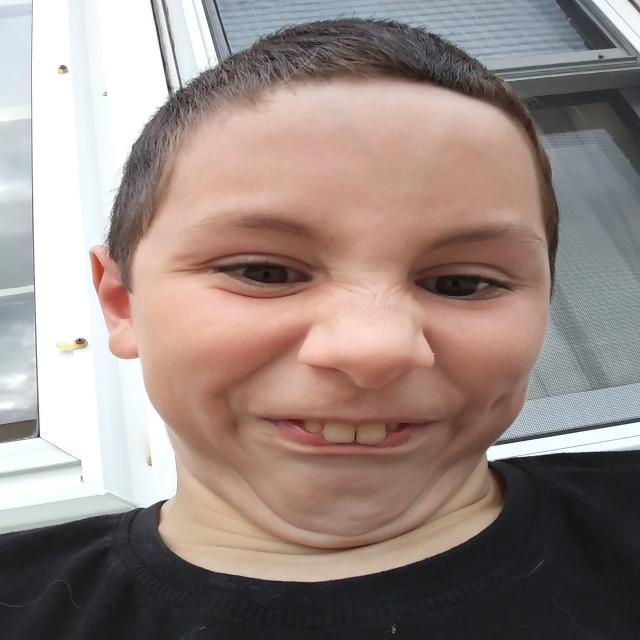earlobe: (89, 245, 142, 360)
